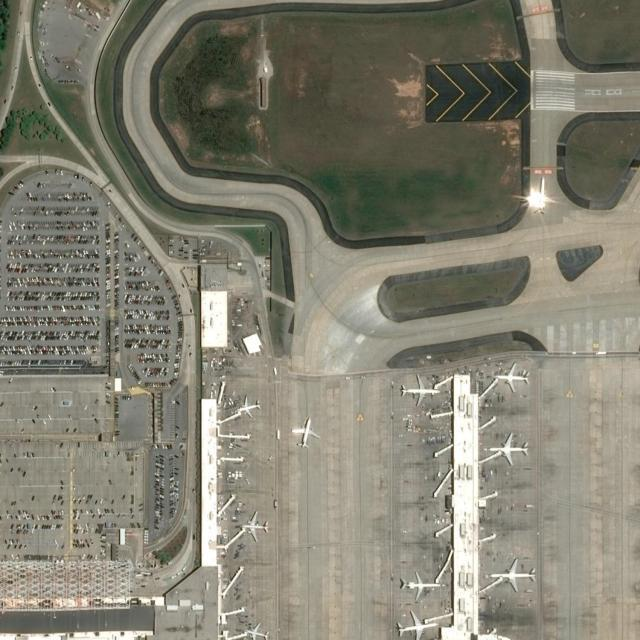Aircraft: (490, 556, 538, 590), (486, 431, 530, 463), (398, 374, 442, 406), (393, 608, 436, 640), (398, 571, 444, 599), (493, 361, 531, 391), (240, 510, 271, 542), (292, 414, 318, 448), (233, 395, 261, 420), (242, 621, 271, 640)
